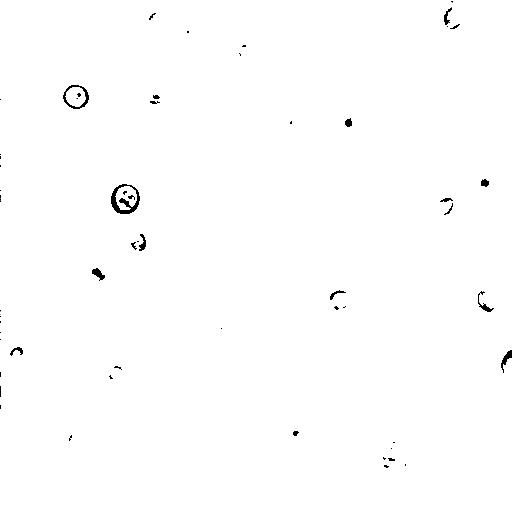micro-algae: (111, 182, 141, 216), (83, 259, 114, 289), (475, 283, 506, 313), (335, 106, 363, 138), (377, 441, 409, 469), (62, 83, 90, 110), (279, 111, 306, 139), (229, 40, 261, 63), (469, 169, 499, 193), (444, 2, 467, 28), (24, 173, 46, 200), (179, 25, 203, 49), (326, 289, 351, 311), (287, 425, 311, 446), (67, 425, 89, 447), (127, 231, 149, 252), (107, 365, 128, 387), (433, 195, 456, 215), (0, 373, 13, 405), (85, 264, 106, 281), (148, 12, 165, 29), (501, 347, 511, 375), (9, 345, 25, 360)
